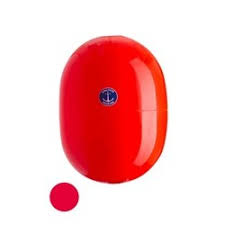buoy: (60, 37, 167, 184)
